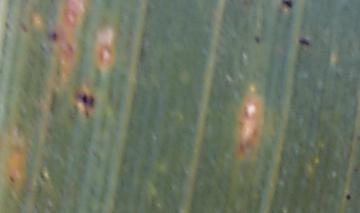tarspot: (76, 90, 95, 107), (297, 37, 311, 48), (19, 20, 29, 33), (50, 32, 60, 43), (39, 170, 47, 182), (283, 1, 293, 9), (254, 34, 261, 45), (9, 176, 16, 184), (85, 109, 90, 120), (346, 193, 353, 200)
